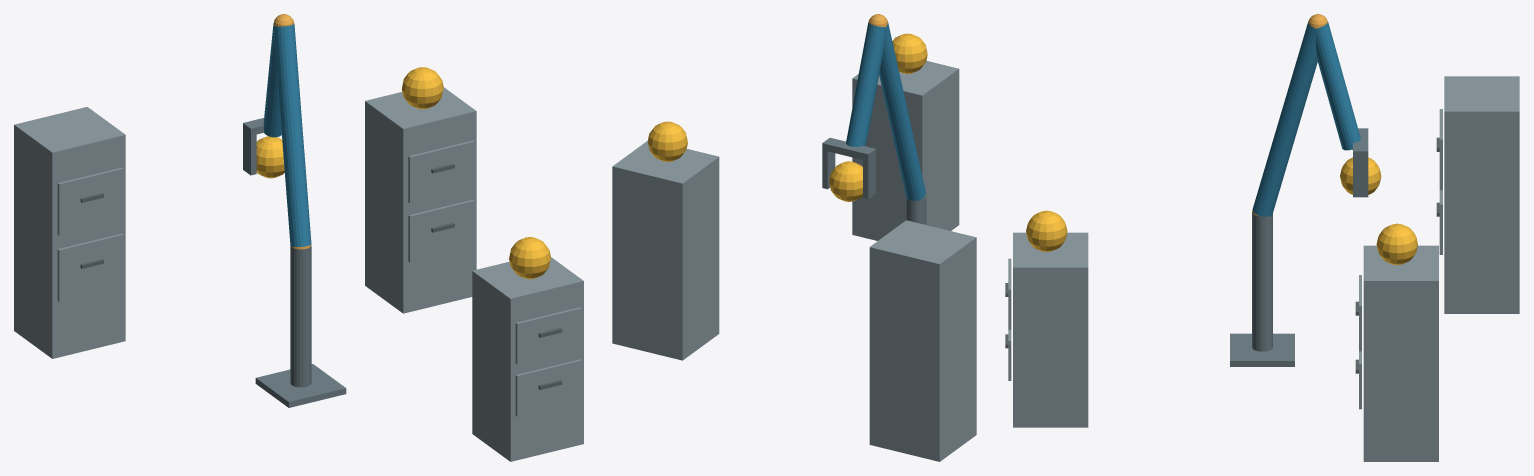
3 renders of one model, left to right at view 1: azimuth 30°, elevation 25°; view 2: azimuth 150°, elevation 25°; view 3: azimuth 270°, elevation 25°, orthographic. The views are drawn at different scales.
Parts seen in each view (by area): view 1: cabinet_3 body, cabinet_2 body, cabinet_1 body, moving link 1, cabinet_3 drawer front, cabinet_3 drawer front.001, cabinet_2 drawer front.001, cabinet_2 drawer front, fixed post, cabinet_1 drawer front, cabinet_1 drawer front.001, pedestal (+4 smaller); view 2: cabinet_3 body, cabinet_2 body, cabinet_1 body, moving link 1, moving link 2, released ball_2, ball ball_3, released ball_1, gripper bridge, gripper finger -1, fixed post, gripper finger 1; view 3: cabinet_3 body, cabinet_2 body, cabinet_1 body, moving link 1, fixed post, moving link 2, pedestal, released ball_2, released ball_1, ball ball_3, gripper finger 1.
Part boxes in pixels (x1=…): cabinet_3 body: x1=14, y1=107, x2=125, y2=358; cabinet_2 body: x1=365, y1=87, x2=476, y2=313; cabinet_1 body: x1=472, y1=257, x2=583, y2=461; moving link 1: x1=274, y1=24, x2=311, y2=246; cabinet_3 drawer front: x1=57, y1=233, x2=123, y2=301; cabinet_3 drawer front.001: x1=57, y1=167, x2=123, y2=235; cabinet_2 drawer front.001: x1=408, y1=140, x2=474, y2=203; cabinet_2 drawer front: x1=408, y1=199, x2=474, y2=262; fixed post: x1=290, y1=245, x2=311, y2=387; cabinet_1 drawer front: x1=515, y1=359, x2=581, y2=416; cabinet_1 drawer front.001: x1=515, y1=307, x2=581, y2=364; pedestal: x1=255, y1=364, x2=346, y2=407; cabinet_3 body: x1=869, y1=220, x2=976, y2=461; cabinet_2 body: x1=612, y1=141, x2=719, y2=360; cabinet_1 body: x1=852, y1=61, x2=959, y2=240; moving link 1: x1=879, y1=21, x2=926, y2=200; moving link 2: x1=846, y1=22, x2=885, y2=146; released ball_2: x1=647, y1=121, x2=687, y2=161; ball ball_3: x1=829, y1=161, x2=862, y2=201; released ball_1: x1=892, y1=33, x2=927, y2=73; gripper bridge: x1=822, y1=137, x2=875, y2=161; gripper finger -1: x1=863, y1=156, x2=875, y2=199; fixed post: x1=906, y1=196, x2=926, y2=224; gripper finger 1: x1=822, y1=150, x2=835, y2=189; cabinet_3 body: x1=1444, y1=76, x2=1519, y2=313; cabinet_2 body: x1=1363, y1=245, x2=1438, y2=461; cabinet_1 body: x1=1013, y1=232, x2=1088, y2=427; moving link 1: x1=1252, y1=22, x2=1317, y2=217; fixed post: x1=1252, y1=212, x2=1272, y2=351; moving link 2: x1=1315, y1=22, x2=1360, y2=150; pedestal: x1=1230, y1=333, x2=1294, y2=366; released ball_2: x1=1376, y1=223, x2=1417, y2=265; released ball_1: x1=1026, y1=210, x2=1067, y2=251; ball ball_3: x1=1340, y1=157, x2=1381, y2=194; gripper finger 1: x1=1353, y1=158, x2=1368, y2=197.
Bounding box in the file's own units: 1.67 × 1.46 × 1.98.
